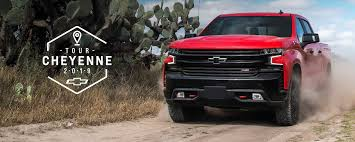car: (163, 11, 334, 124)
